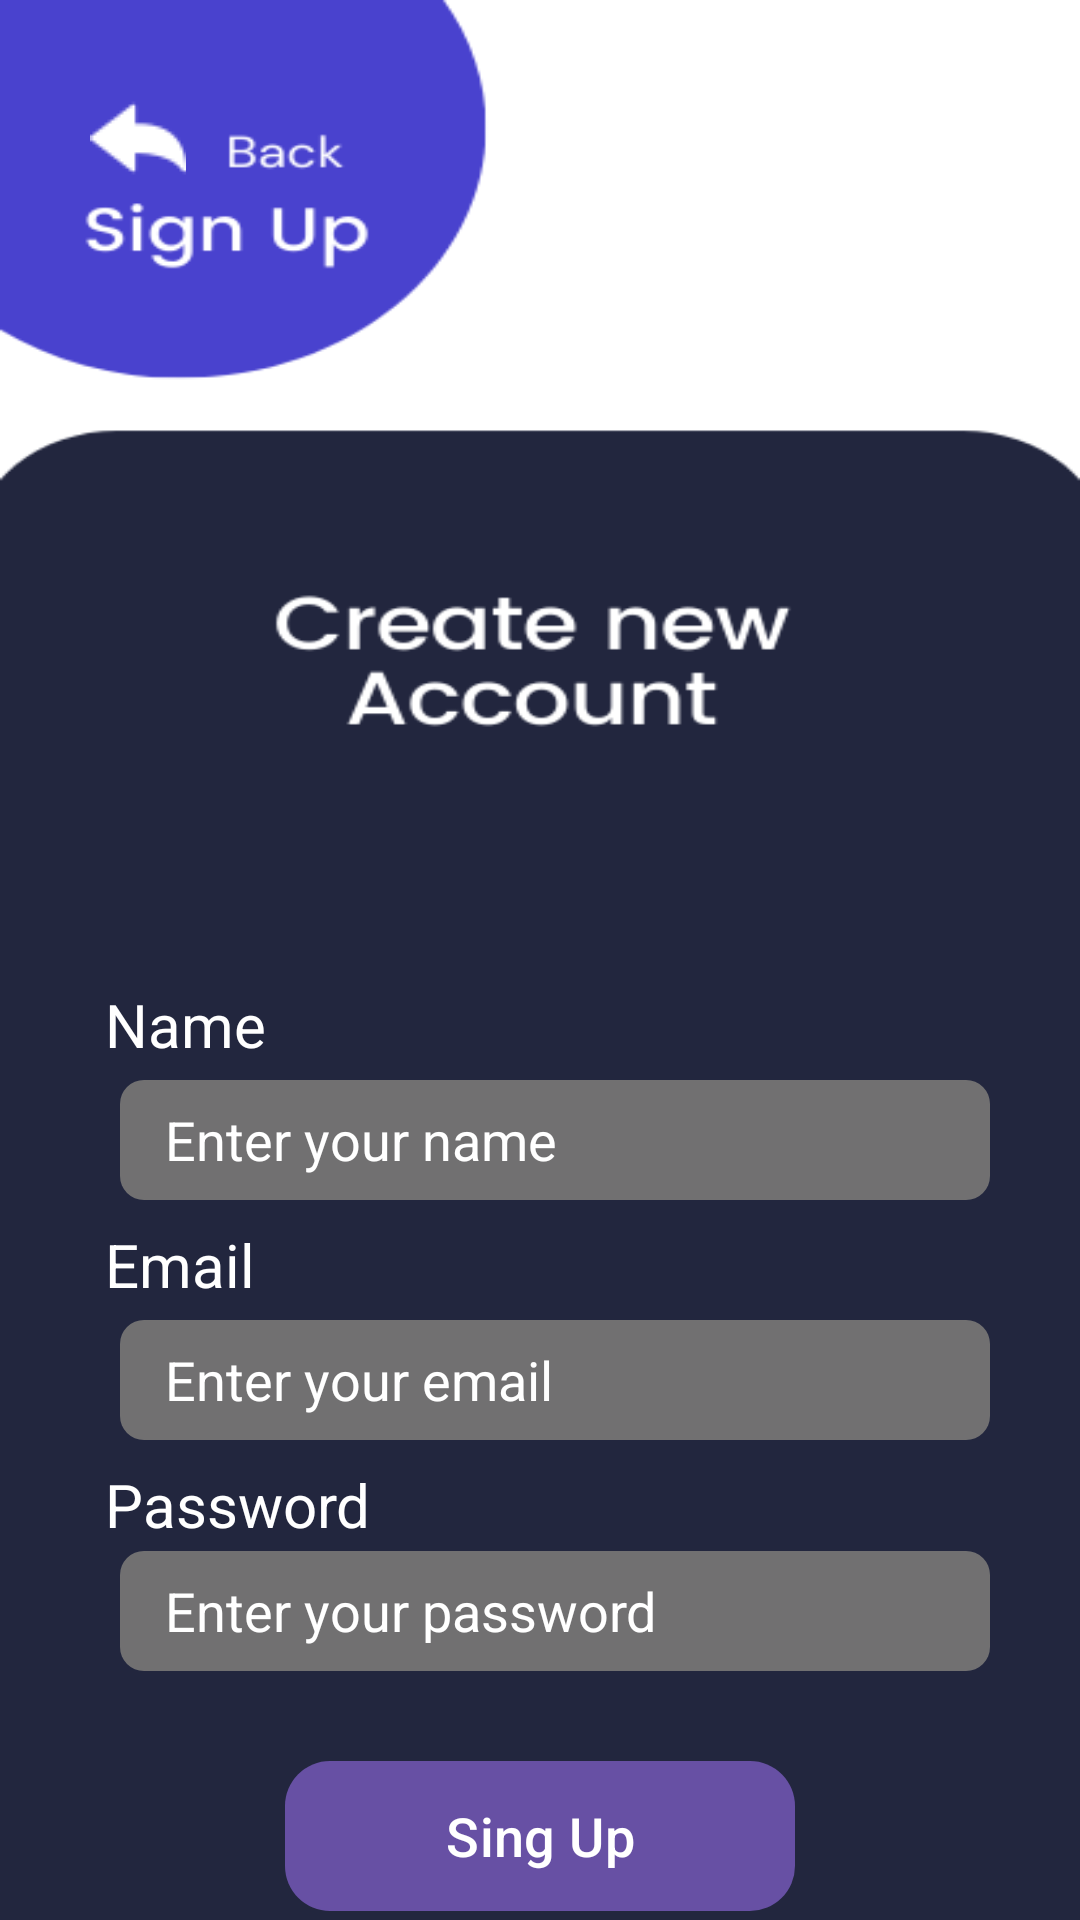

Named icons in this screenshot (1080 × 1920) and their centers, (x,y):
back: (138,138)
